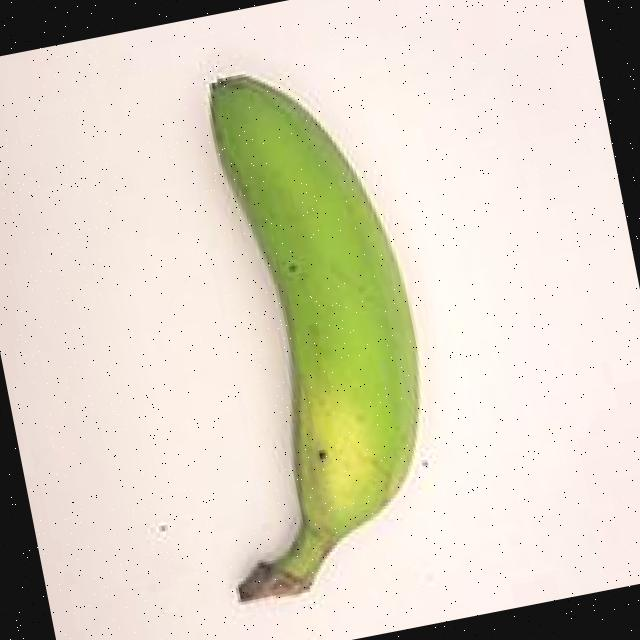Unripe: (88, 24, 491, 640)
